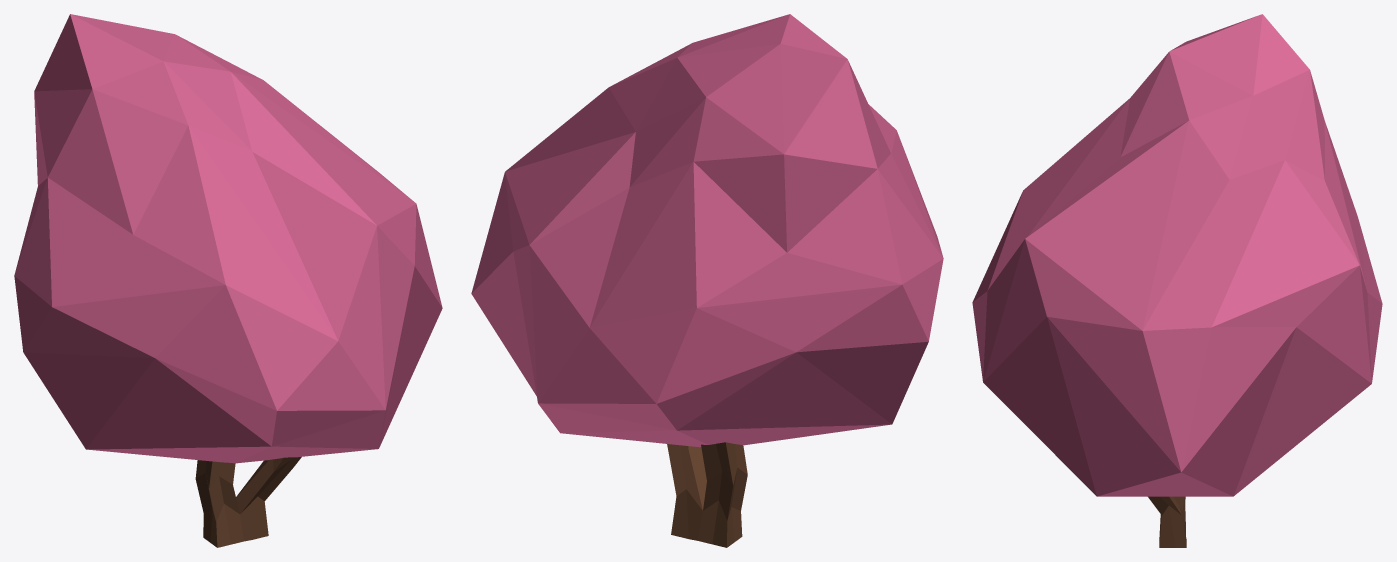
Rendered from Tree_49_Pink.fbx.
3 renders of one model, left to right at view 1: azimuth 30°, elevation 25°; view 2: azimuth 150°, elevation 25°; view 3: azimuth 270°, elevation 25°, orthographic. The views are drawn at different scales.
Parts seen in each view (by area): view 1: Tree_49_Pink_Part_1, Tree_49_Pink_Part_2; view 2: Tree_49_Pink_Part_1, Tree_49_Pink_Part_2; view 3: Tree_49_Pink_Part_1, Tree_49_Pink_Part_2.
Part boxes in pixels (left/top/right/bottom): Tree_49_Pink_Part_1: left=14, top=14, right=442, bottom=463; Tree_49_Pink_Part_2: left=195, top=457, right=301, bottom=547; Tree_49_Pink_Part_1: left=471, top=14, right=943, bottom=447; Tree_49_Pink_Part_2: left=667, top=442, right=747, bottom=547; Tree_49_Pink_Part_1: left=972, top=14, right=1382, bottom=496; Tree_49_Pink_Part_2: left=1148, top=496, right=1186, bottom=547.
Size of the model in its own units: 654 by 768 by 606.
